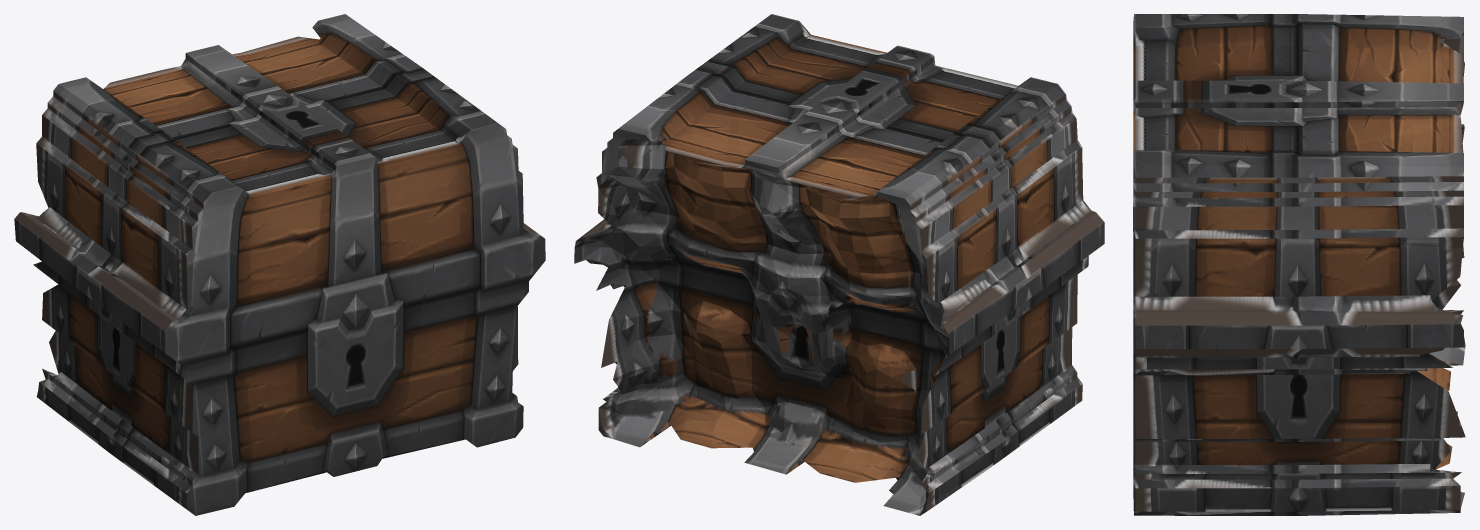
File: SM_Dungeon_Chest_A_LOD0.fbx
3 views of the same model, side by side, from view 1: azimuth 30°, elevation 25°; view 2: azimuth 150°, elevation 25°; view 3: azimuth 270°, elevation 25° (orthographic). The views are drawn at different scales.
Parts seen in each view (by area): view 1: SM_Dungeon_Chest_A_LOD0; view 2: SM_Dungeon_Chest_A_LOD0; view 3: SM_Dungeon_Chest_A_LOD0.
Boxes of the visible parts, x1=… form: SM_Dungeon_Chest_A_LOD0: x1=14, y1=14, x2=545, y2=515; SM_Dungeon_Chest_A_LOD0: x1=574, y1=14, x2=1104, y2=515; SM_Dungeon_Chest_A_LOD0: x1=1133, y1=14, x2=1465, y2=515.
Size of the model in its own units: 1 by 0.8 by 0.7037.
